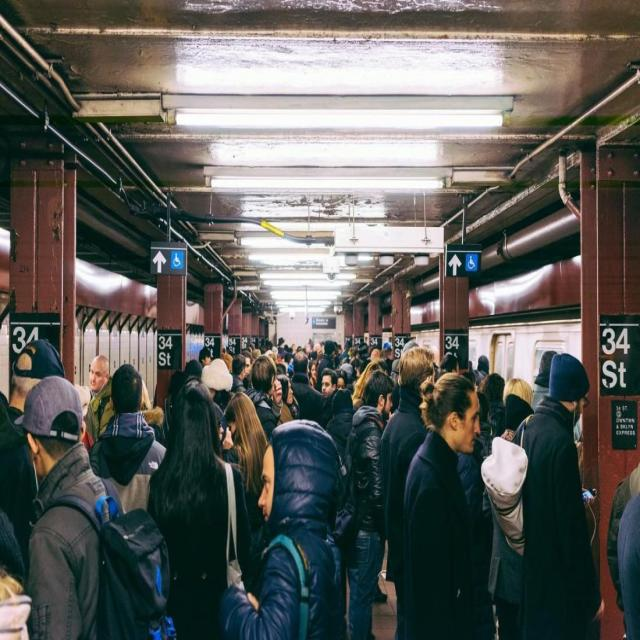body: (12, 373, 179, 640), (478, 350, 610, 639), (219, 416, 351, 639), (146, 379, 252, 640), (398, 365, 494, 639), (375, 343, 435, 636), (0, 337, 67, 574), (343, 370, 396, 639), (88, 361, 169, 518), (223, 391, 270, 553), (479, 354, 554, 434), (607, 458, 639, 638), (181, 338, 307, 374), (243, 354, 284, 443), (306, 337, 412, 366), (85, 352, 115, 444), (287, 348, 323, 422), (141, 376, 170, 434), (273, 371, 302, 428), (317, 367, 340, 432), (438, 354, 478, 379), (228, 352, 250, 396), (335, 368, 349, 391), (308, 360, 318, 389)
